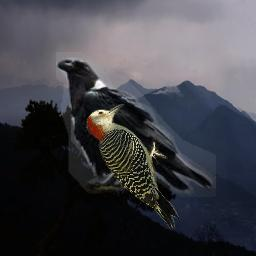Crow: (56, 52, 216, 197)
Woodpecker: (84, 104, 181, 230)
